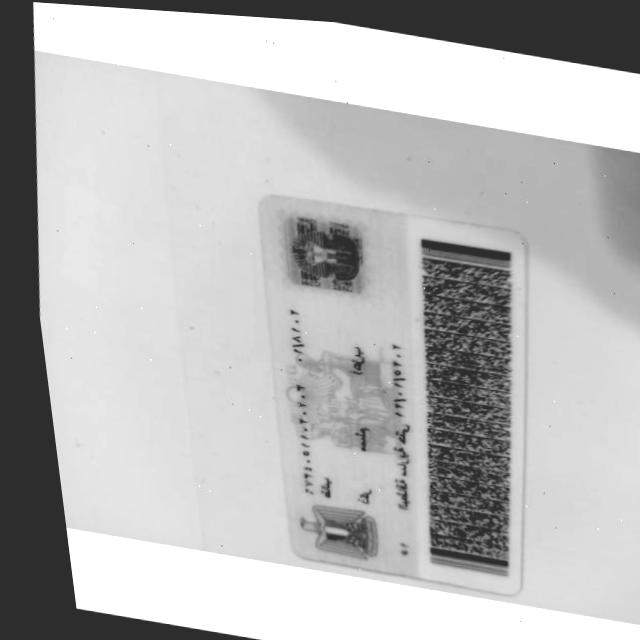id_card: (257, 195, 523, 589)
